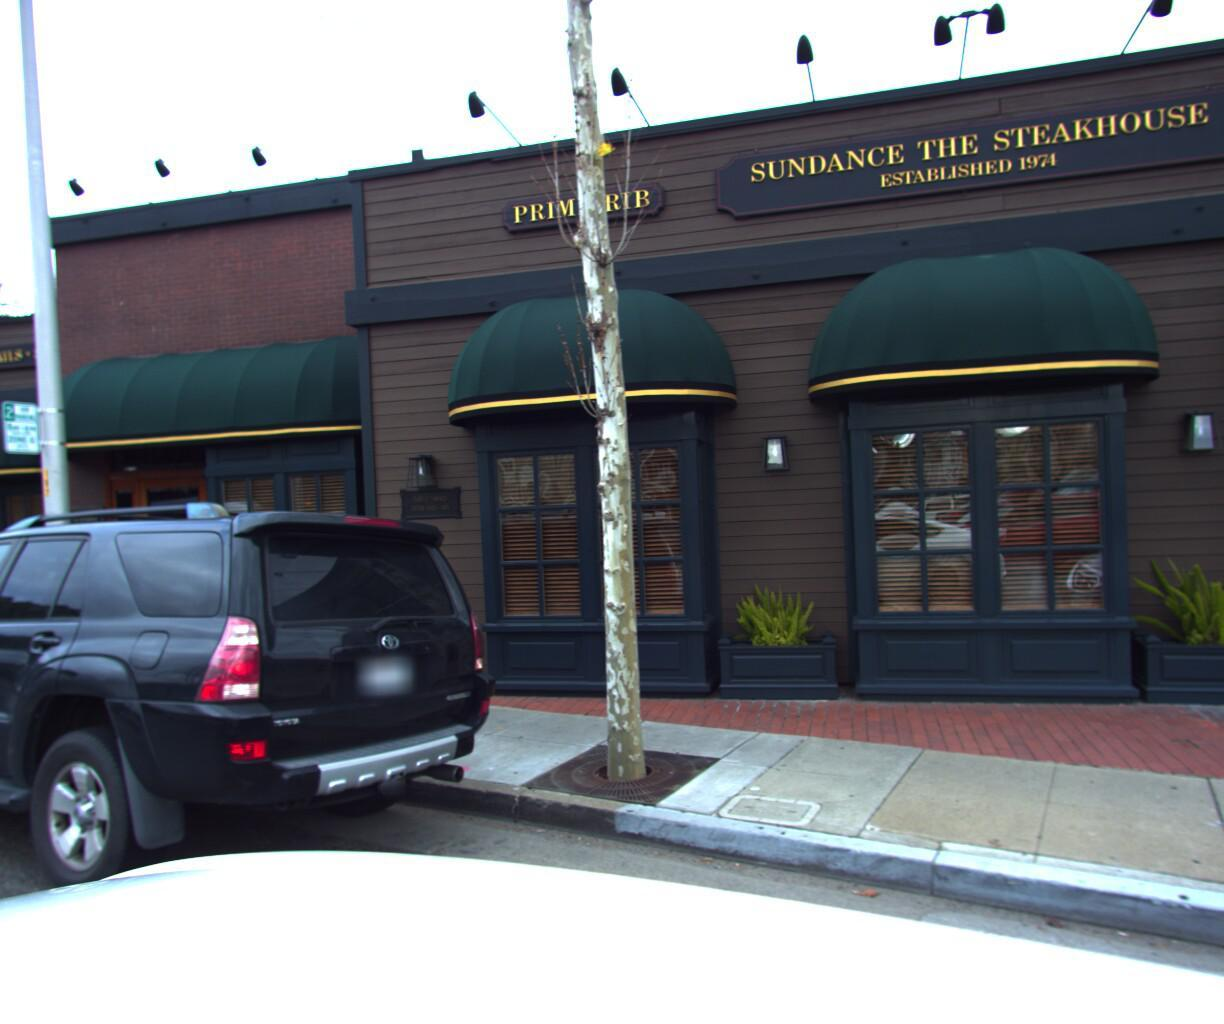car: (0, 486, 515, 956)
